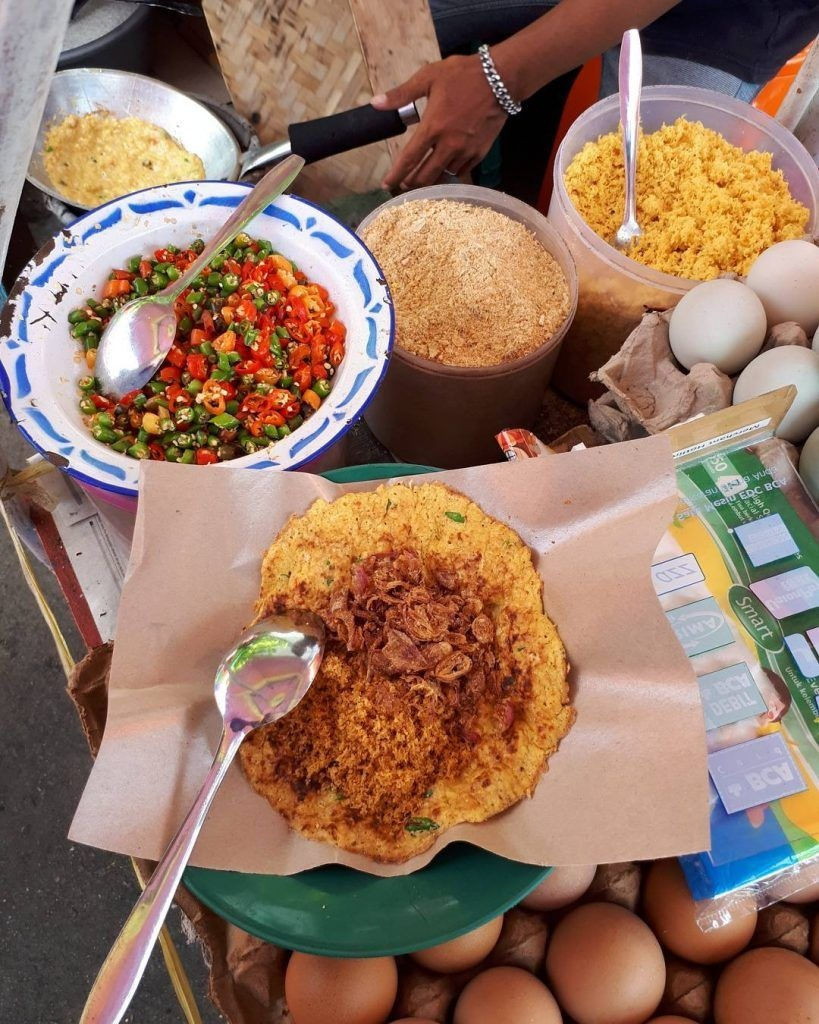kerak_telor: (224, 482, 589, 856)
